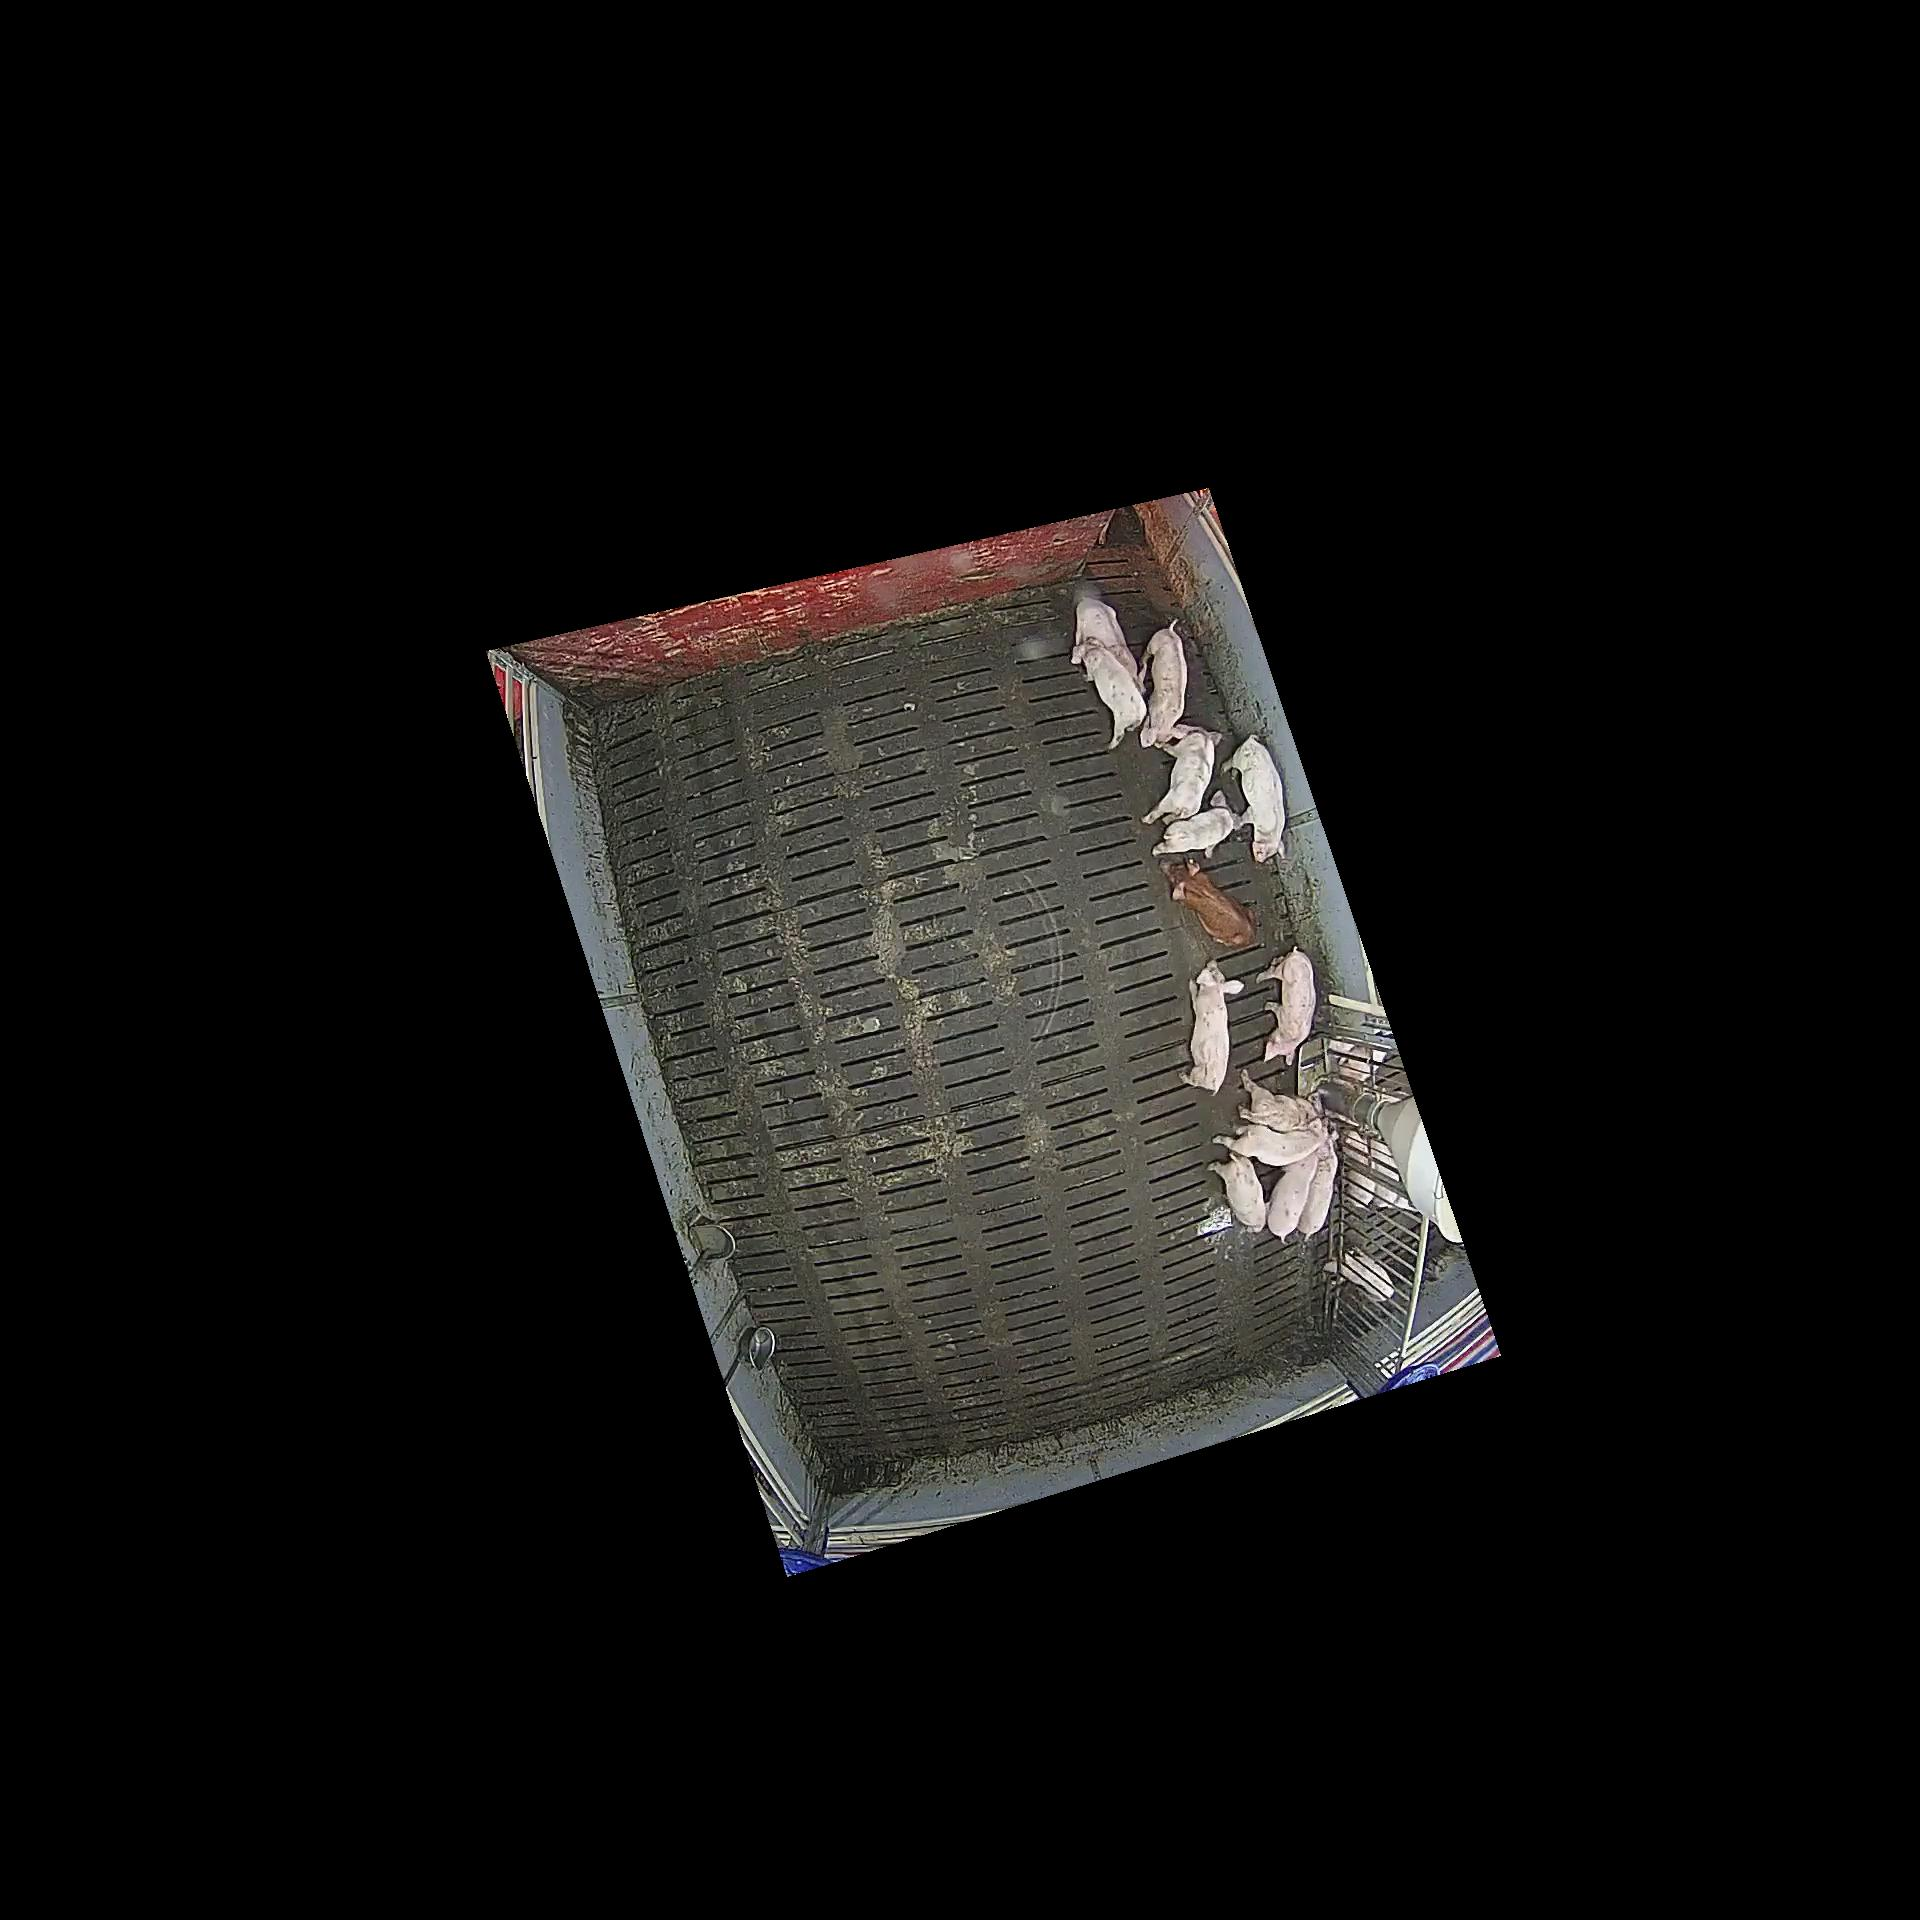pig: (1159, 858, 1259, 949), (1178, 960, 1243, 1095), (1071, 636, 1148, 749), (1220, 733, 1285, 863), (1141, 728, 1222, 825), (1255, 946, 1317, 1065), (1138, 619, 1192, 749), (1076, 596, 1146, 695), (1268, 1139, 1329, 1247), (1152, 791, 1245, 858), (1213, 1118, 1329, 1166), (1238, 1069, 1320, 1132), (1206, 1152, 1269, 1233), (1296, 1131, 1340, 1241)
